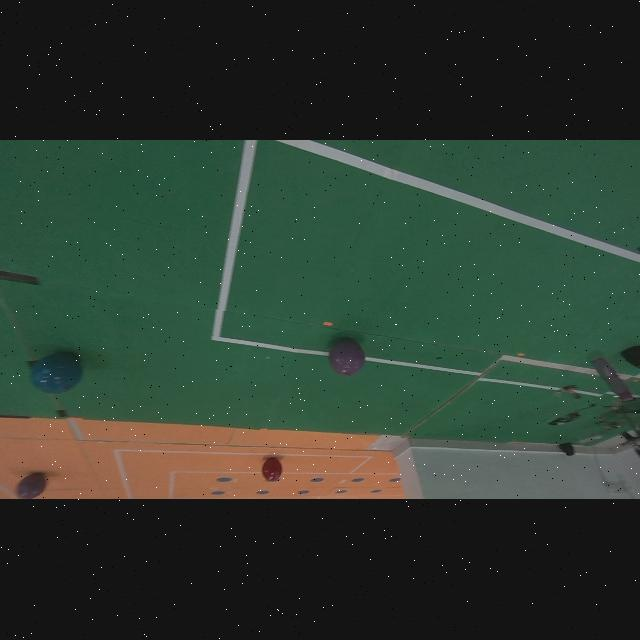B: (31, 353, 82, 394)
P: (328, 340, 365, 377), (17, 474, 46, 500)
R: (262, 458, 283, 482)
